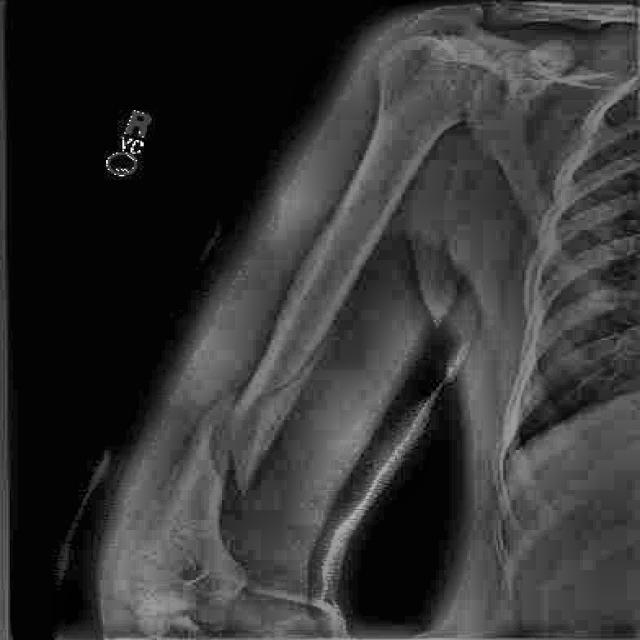humerus: (156, 313, 385, 540)
